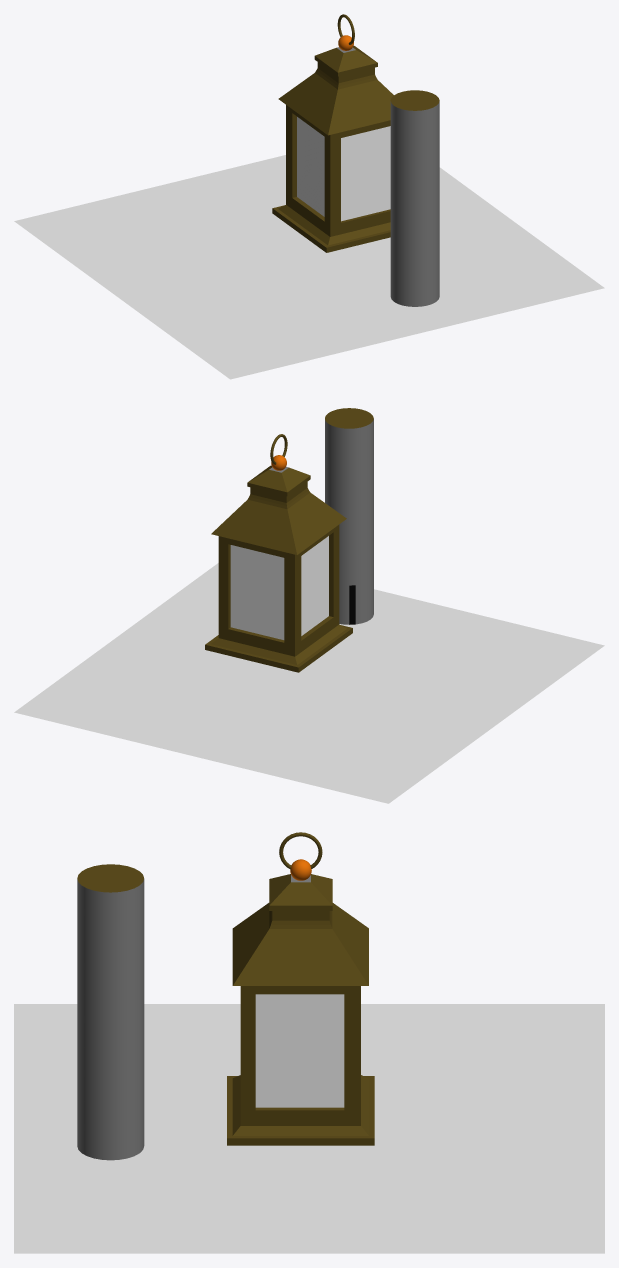
The model's file is pikku lyhty.fbx.
3 views of the same model, one above another, from view 1: azimuth 30°, elevation 25°; view 2: azimuth 150°, elevation 25°; view 3: azimuth 270°, elevation 25° (orthographic). The views are drawn at different scales.
Parts seen in each view (by area): view 1: Plane001, Box001, Cone005, Glass003, Glass002; view 2: Plane001, Box001, Cone005, Glass004, Glass002; view 3: Plane001, Box001, Cone005, Glass01.
Boxes of the visible parts, bbox=[...] form: Plane001: bbox=[14, 155, 604, 379]; Box001: bbox=[272, 45, 393, 252]; Cone005: bbox=[390, 90, 439, 306]; Glass003: bbox=[341, 126, 390, 221]; Glass002: bbox=[297, 117, 324, 216]; Plane001: bbox=[14, 563, 604, 803]; Box001: bbox=[205, 465, 352, 672]; Cone005: bbox=[325, 408, 373, 624]; Glass004: bbox=[230, 545, 284, 639]; Glass002: bbox=[301, 536, 328, 635]; Plane001: bbox=[14, 1004, 604, 1253]; Box001: bbox=[227, 874, 374, 1145]; Cone005: bbox=[77, 864, 144, 1160]; Glass01: bbox=[255, 994, 344, 1107].
Size of the model in its own units: 300 by 179 by 300.
